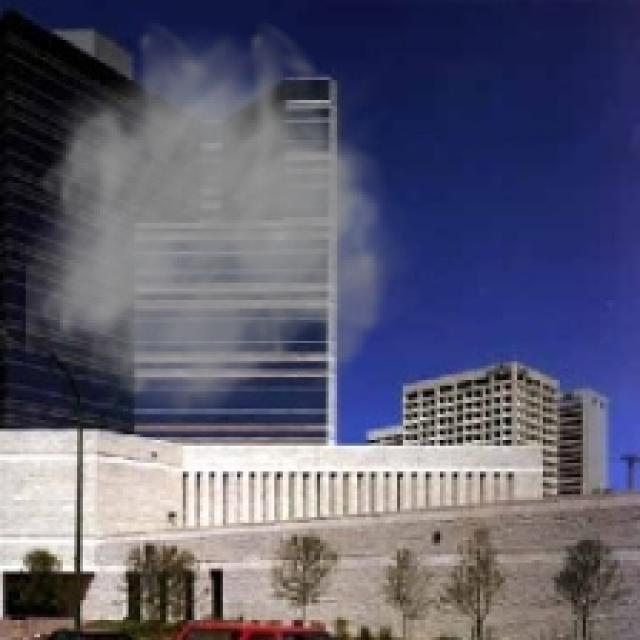Smoke: (26, 17, 423, 429)
